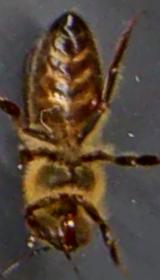varroa_mite: (85, 92, 102, 110)
